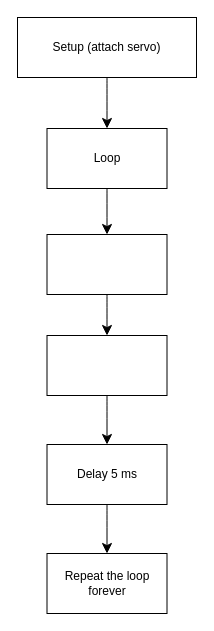
Some shapes in this 214 by 631 pixel diagram are drawn without their labels. The centre of each missing label's shape, as x and y in pixels:
For pos = 0 to 180 (step +5): the point at 106,264
Move servo to position 'pos': the point at 106,365
